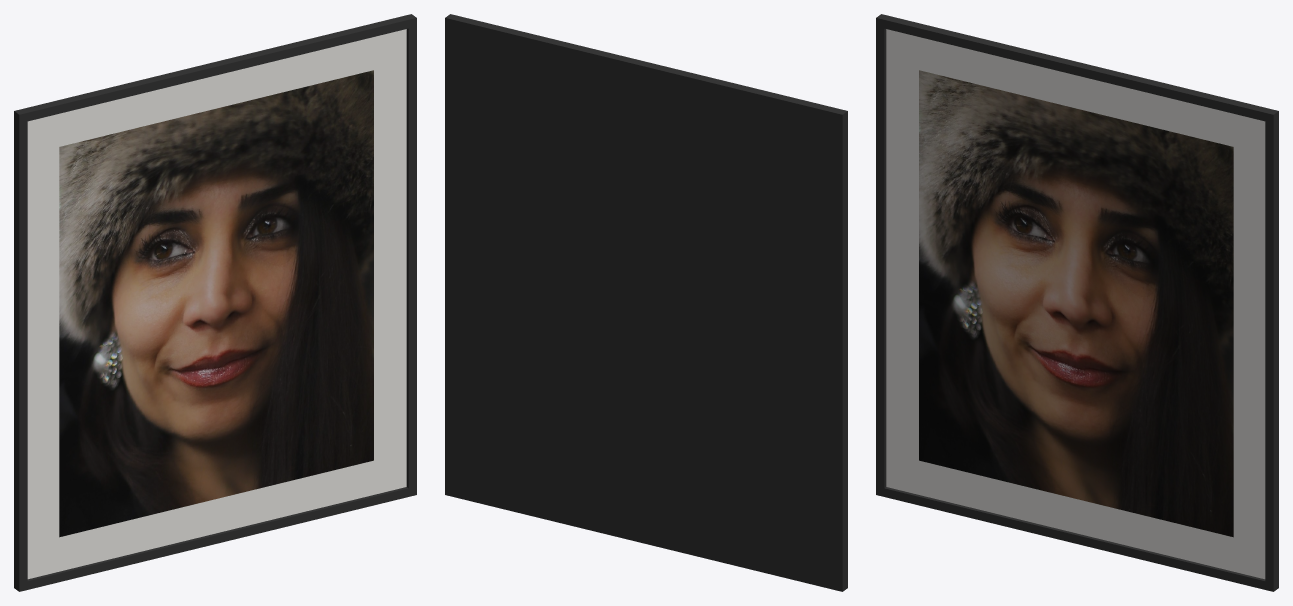
File: azizam-90.gltf
3 renders of one model, left to right at view 1: azimuth 30°, elevation 25°; view 2: azimuth 150°, elevation 25°; view 3: azimuth 330°, elevation 25°, orthographic.
Parts seen in each view (by area): view 1: tavla; view 2: tavla; view 3: tavla.
Part boxes in pixels (box(x1,y1,x2,y2)): tavla: box(14, 14, 416, 591); tavla: box(445, 14, 847, 591); tavla: box(876, 14, 1278, 591).
Size of the model in its own units: 0.9589 by 1.1 by 0.022.
3 materials, 1 textured.
